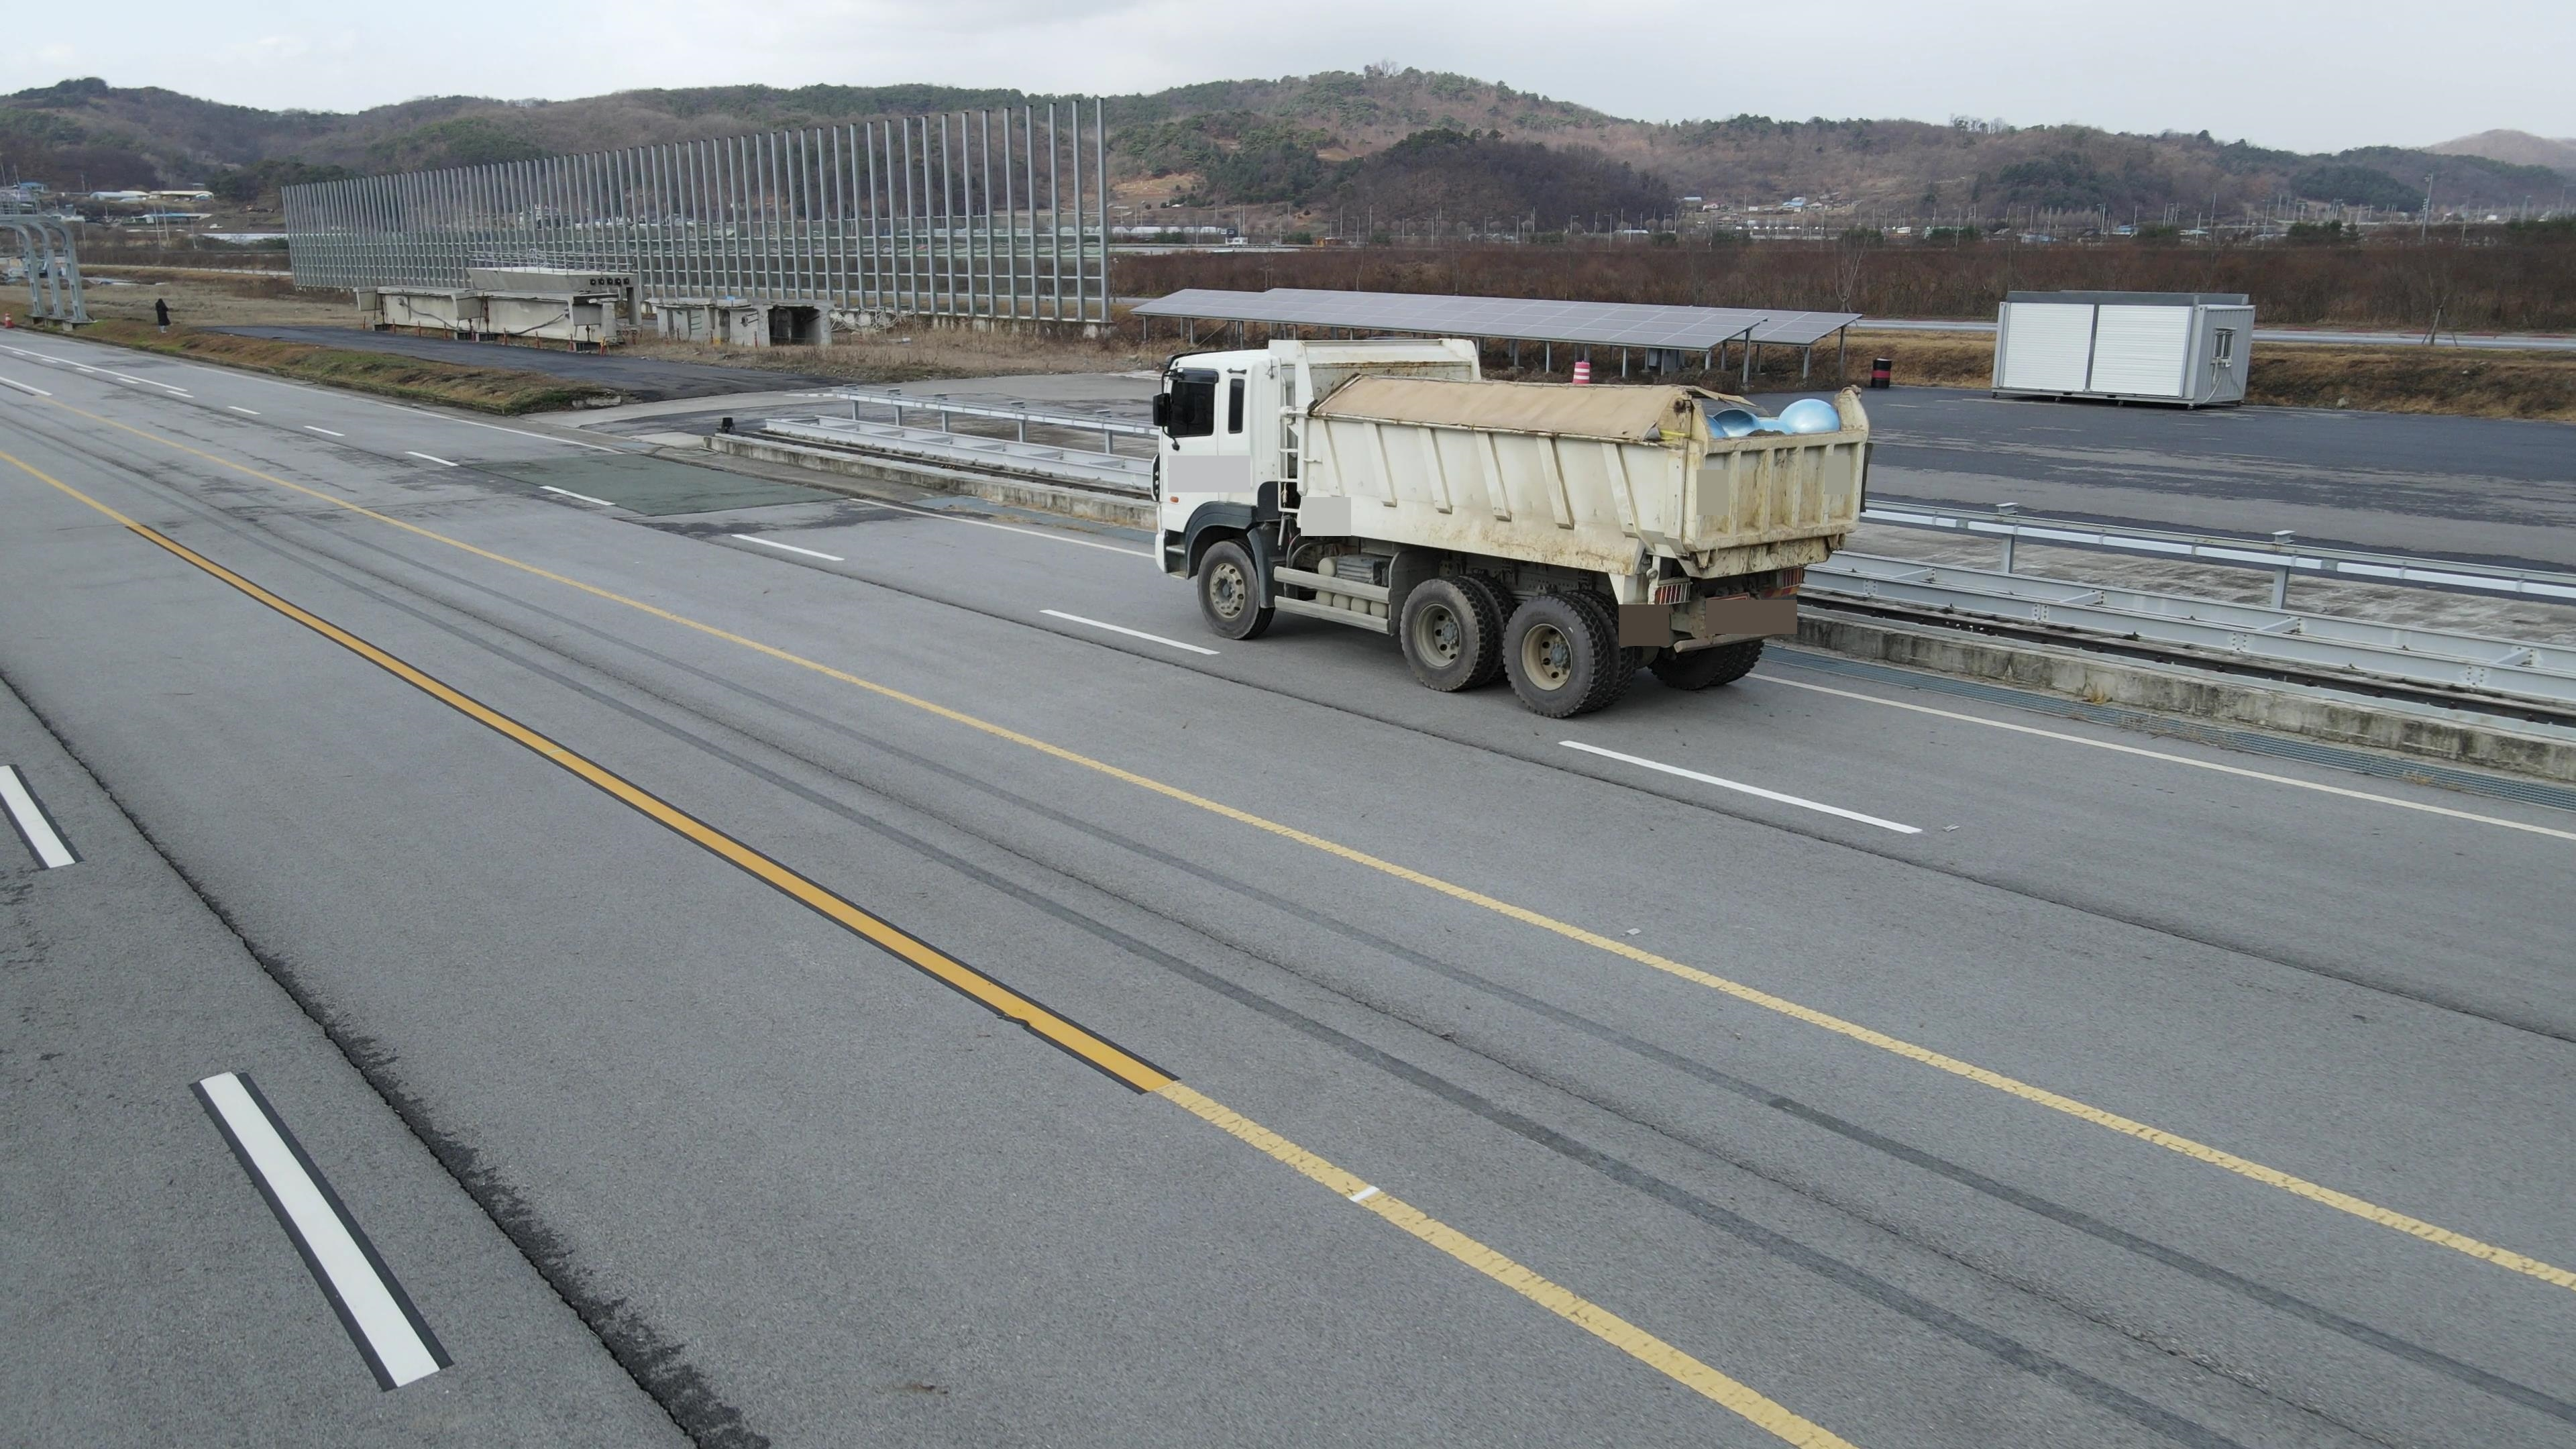불법차량: (1150, 338, 1874, 720)
